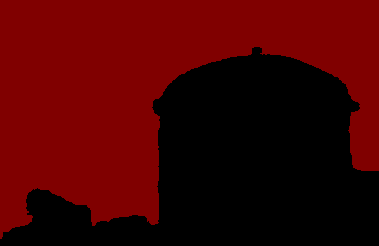Sky: (1, 1, 378, 238)
